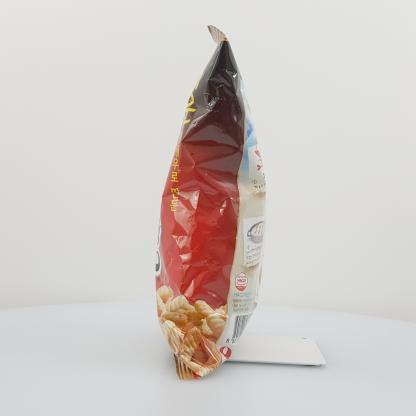Plastic Packaging: (130, 13, 292, 392)
